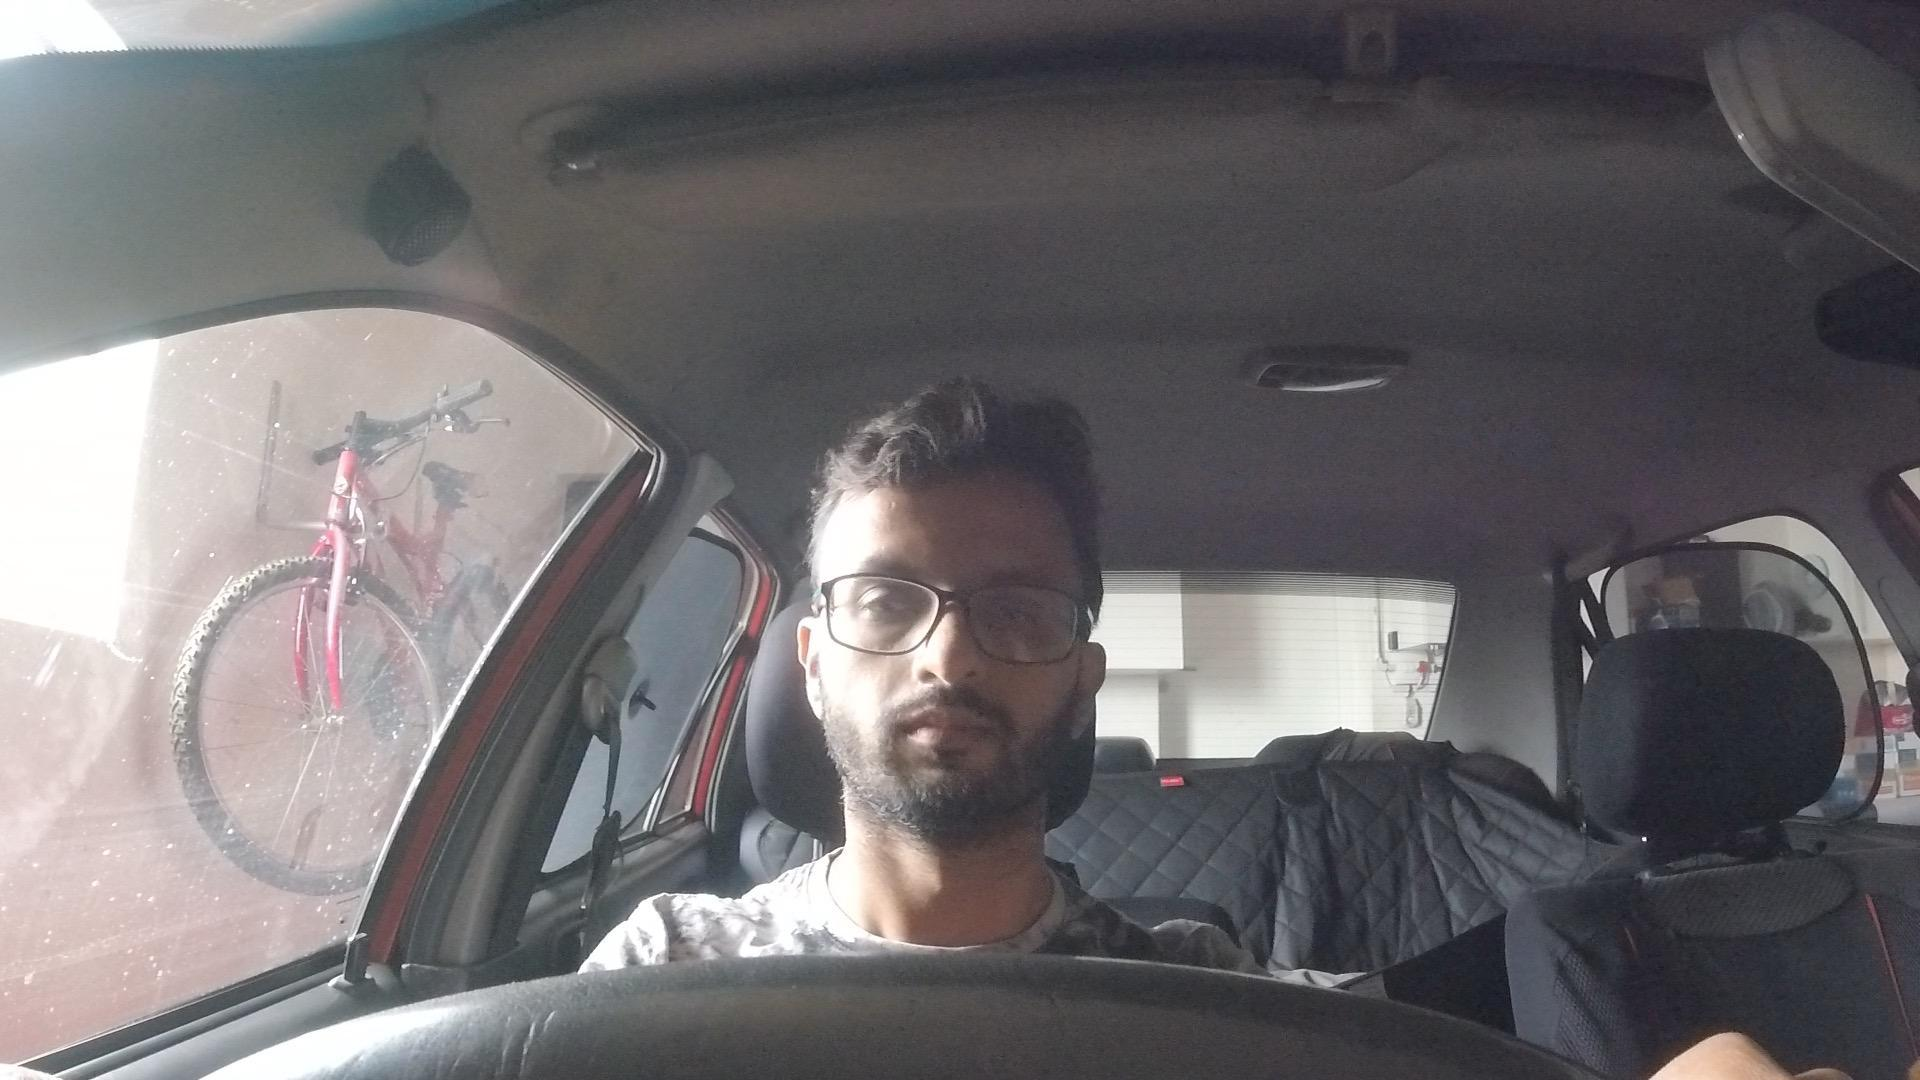SafeDriving: (793, 372, 1113, 840)
